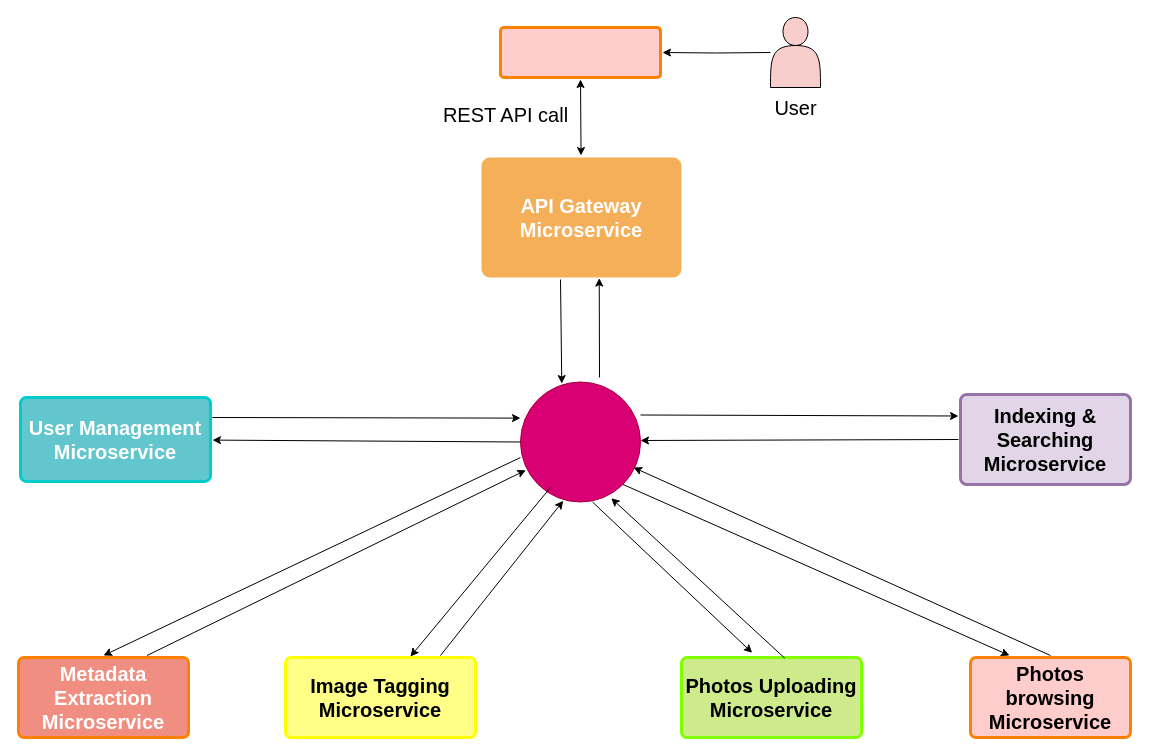
Some shapes in this 1149 by 756 pixel diagram are drawn without their labels. The box of each missing label's shape, as (x1, y1, x2, y2) in pixels:
Front-End: (498, 26, 662, 78)
Message Broker: (520, 381, 640, 502)
